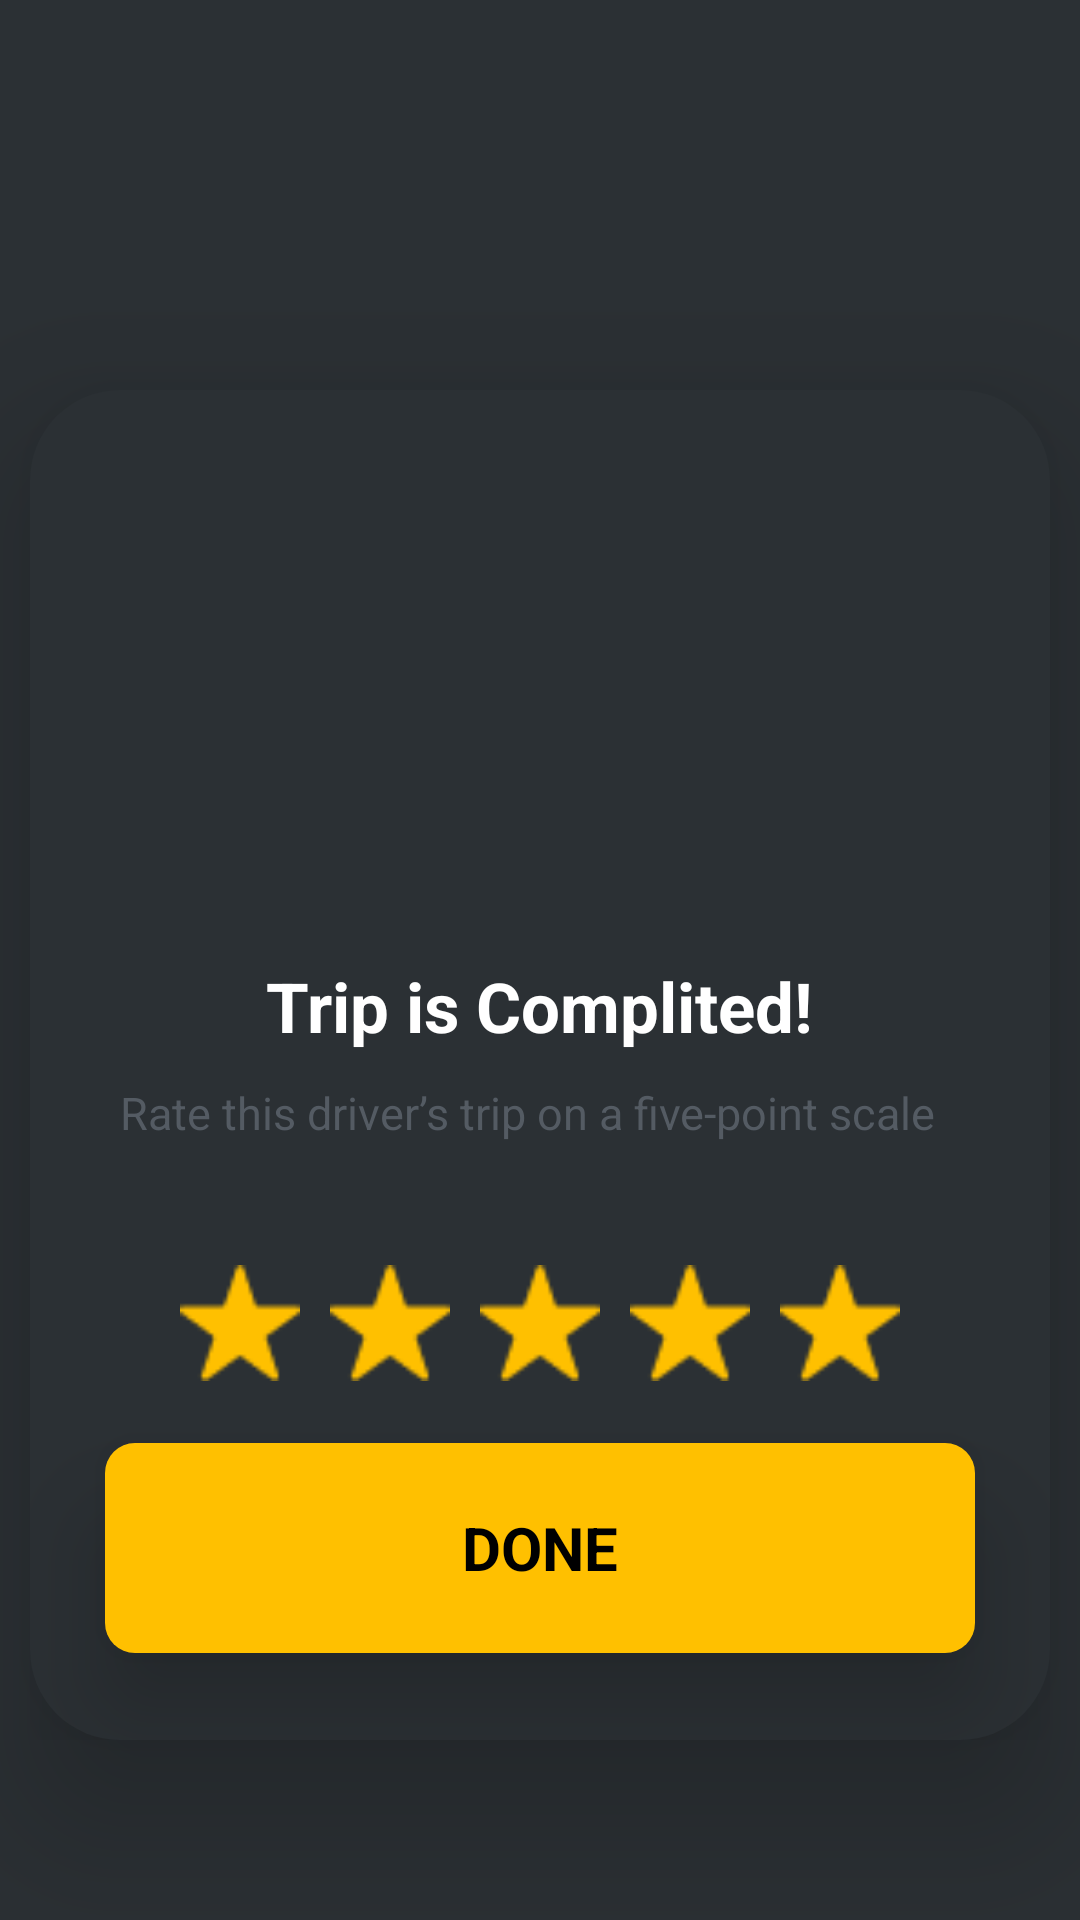

Named icons in this screenshot (1080px×1920px) and their bounding boxes, (x1, y1, x2, y2):
star: (180, 1265, 300, 1381), (330, 1265, 450, 1381), (480, 1265, 600, 1381), (630, 1265, 750, 1381), (780, 1265, 900, 1381)
